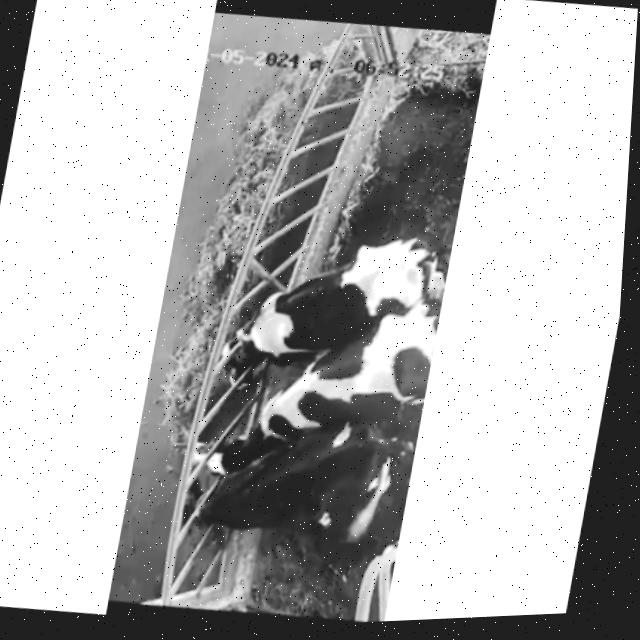eat: (134, 441, 297, 552), (182, 280, 312, 390), (148, 395, 290, 485)
